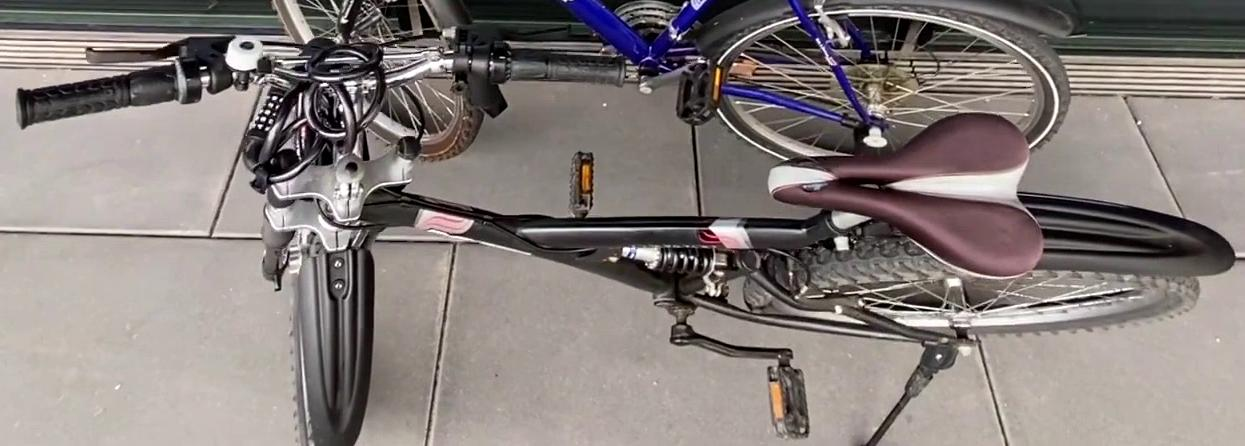Bicycle: (1, 0, 1245, 446)
